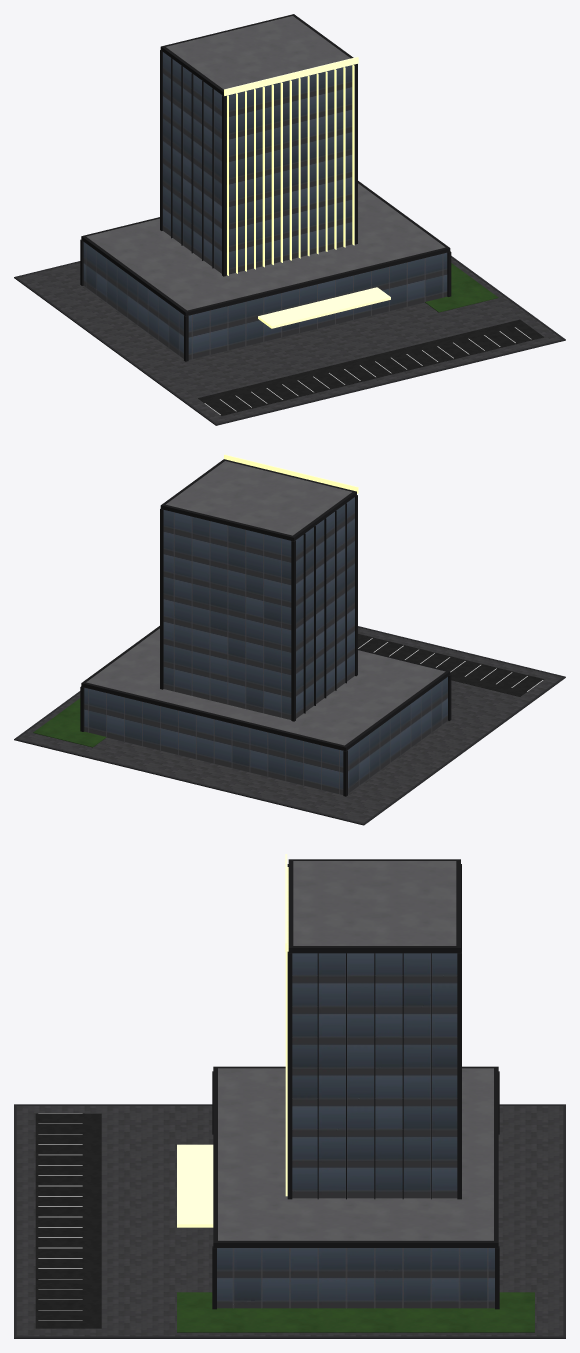
The model's file is sponsor_L3.glb.
3 renders of one model, top to bottom at view 1: azimuth 30°, elevation 25°; view 2: azimuth 150°, elevation 25°; view 3: azimuth 270°, elevation 25°, orthographic. The views are drawn at different scales.
Parts seen in each view (by area): view 1: emissive_curtain_sponsor_L3, paving_sponsor_L3, roofing_sponsor_L3, emissive_led_sponsor_L3, black_metal_sponsor_L3, asphalt_sponsor_L3, concrete_dark_sponsor_L3, lawn_sponsor_L3; view 2: emissive_curtain_sponsor_L3, roofing_sponsor_L3, paving_sponsor_L3, black_metal_sponsor_L3, asphalt_sponsor_L3, concrete_dark_sponsor_L3, lawn_sponsor_L3, emissive_led_sponsor_L3; view 3: emissive_curtain_sponsor_L3, paving_sponsor_L3, roofing_sponsor_L3, asphalt_sponsor_L3, black_metal_sponsor_L3, lawn_sponsor_L3, emissive_led_sponsor_L3, concrete_dark_sponsor_L3, white_sponsor_L3.
Boxes of the visible parts, x1=… form: emissive_curtain_sponsor_L3: x1=83, y1=52, x2=447, y2=359; paving_sponsor_L3: x1=17, y1=258, x2=562, y2=423; roofing_sponsor_L3: x1=86, y1=16, x2=445, y2=310; emissive_led_sponsor_L3: x1=224, y1=57, x2=390, y2=328; black_metal_sponsor_L3: x1=80, y1=14, x2=451, y2=361; asphalt_sponsor_L3: x1=198, y1=319, x2=543, y2=415; concrete_dark_sponsor_L3: x1=14, y1=256, x2=565, y2=425; lawn_sponsor_L3: x1=425, y1=263, x2=498, y2=312; emissive_curtain_sponsor_L3: x1=84, y1=497, x2=447, y2=794; roofing_sponsor_L3: x1=86, y1=461, x2=445, y2=745; paving_sponsor_L3: x1=17, y1=627, x2=562, y2=823; black_metal_sponsor_L3: x1=80, y1=459, x2=451, y2=796; asphalt_sponsor_L3: x1=358, y1=634, x2=543, y2=696; concrete_dark_sponsor_L3: x1=14, y1=626, x2=565, y2=825; lawn_sponsor_L3: x1=33, y1=698, x2=106, y2=747; emissive_led_sponsor_L3: x1=224, y1=454, x2=358, y2=493; emissive_curtain_sponsor_L3: x1=217, y1=953, x2=494, y2=1308; paving_sponsor_L3: x1=16, y1=1106, x2=563, y2=1336; roofing_sponsor_L3: x1=218, y1=861, x2=493, y2=1240; asphalt_sponsor_L3: x1=35, y1=1113, x2=101, y2=1328; black_metal_sponsor_L3: x1=212, y1=859, x2=499, y2=1309; lawn_sponsor_L3: x1=177, y1=1292, x2=534, y2=1332; emissive_led_sponsor_L3: x1=177, y1=854, x2=288, y2=1227; concrete_dark_sponsor_L3: x1=14, y1=1104, x2=565, y2=1338; white_sponsor_L3: x1=38, y1=1113, x2=82, y2=1320.
Size of the model in its own units: 58.6 by 37.92 by 58.6.
10 materials, 6 textured.
